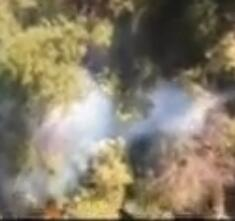yanwu: (6, 82, 204, 206)
